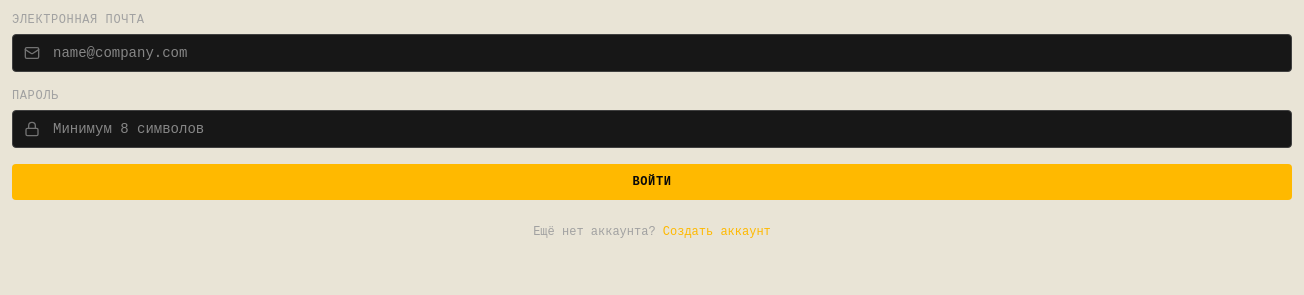
Test: Auth Module › validates invalid email and short password on LoginForm submit
The image size is (1304, 295).
Click the button "Войти" at [652, 182], box [12,164,1292,200]
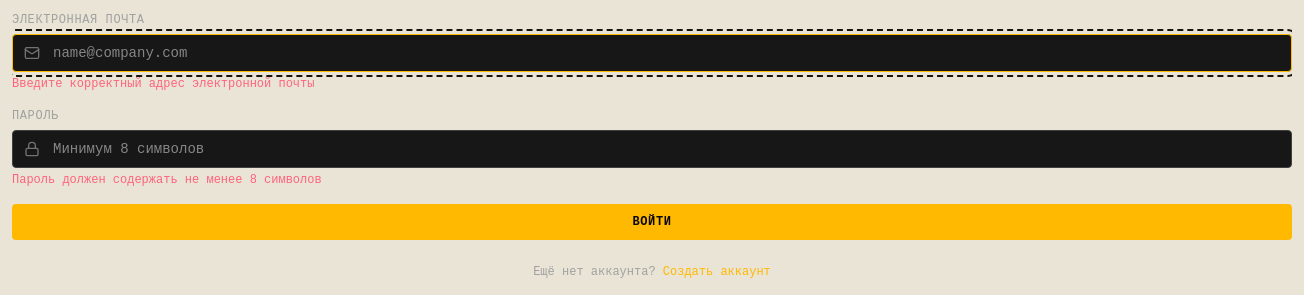
Expected: the text "Введите корректный адрес электронной почты" is shown, [12,77,314,91]
Expected: the text "Пароль должен содержать не менее 8 символов" is shown, [12,173,322,187]
